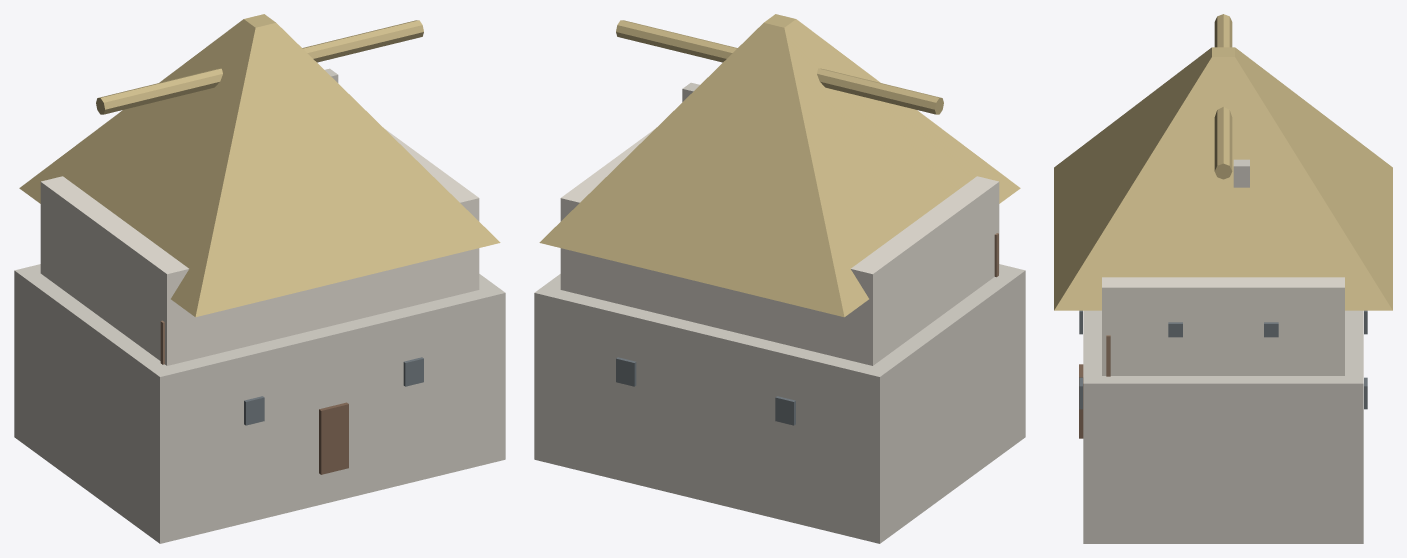
The model's file is french_house_v2.glb.
3 renders of one model, left to right at view 1: azimuth 30°, elevation 25°; view 2: azimuth 150°, elevation 25°; view 3: azimuth 270°, elevation 25°, orthographic. The views are drawn at different scales.
Parts seen in each view (by area): view 1: Cube, Cone, Cube.001, Cylinder, Cube.005; view 2: Cube, Cone, Cube.001, Cylinder; view 3: Cone, Cube, Cube.001, Cylinder, Cube.002.
Part boxes in pixels (left/top/right/bottom): Cube: left=14, top=264, right=505, bottom=543; Cone: left=19, top=14, right=500, bottom=317; Cube.001: left=40, top=129, right=479, bottom=365; Cylinder: left=96, top=20, right=423, bottom=114; Cube.005: left=319, top=402, right=348, bottom=474; Cube: left=534, top=264, right=1025, bottom=543; Cone: left=539, top=14, right=1020, bottom=317; Cube.001: left=560, top=129, right=999, bottom=365; Cylinder: left=616, top=20, right=943, bottom=114; Cone: left=1054, top=47, right=1392, bottom=310; Cube: left=1083, top=310, right=1363, bottom=543; Cube.001: left=1102, top=277, right=1344, bottom=375; Cylinder: left=1214, top=14, right=1232, bottom=179; Cube.002: left=1233, top=159, right=1249, bottom=187.
Size of the model in its own units: 5.2 by 6.15 by 4.6.
